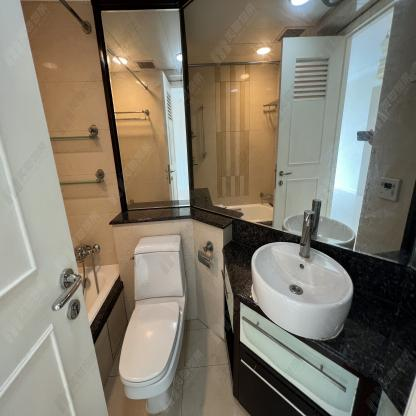Bathtub: (76, 263, 127, 391)
Toilet: (117, 236, 187, 411)
Toilet Sink: (250, 241, 353, 339)
